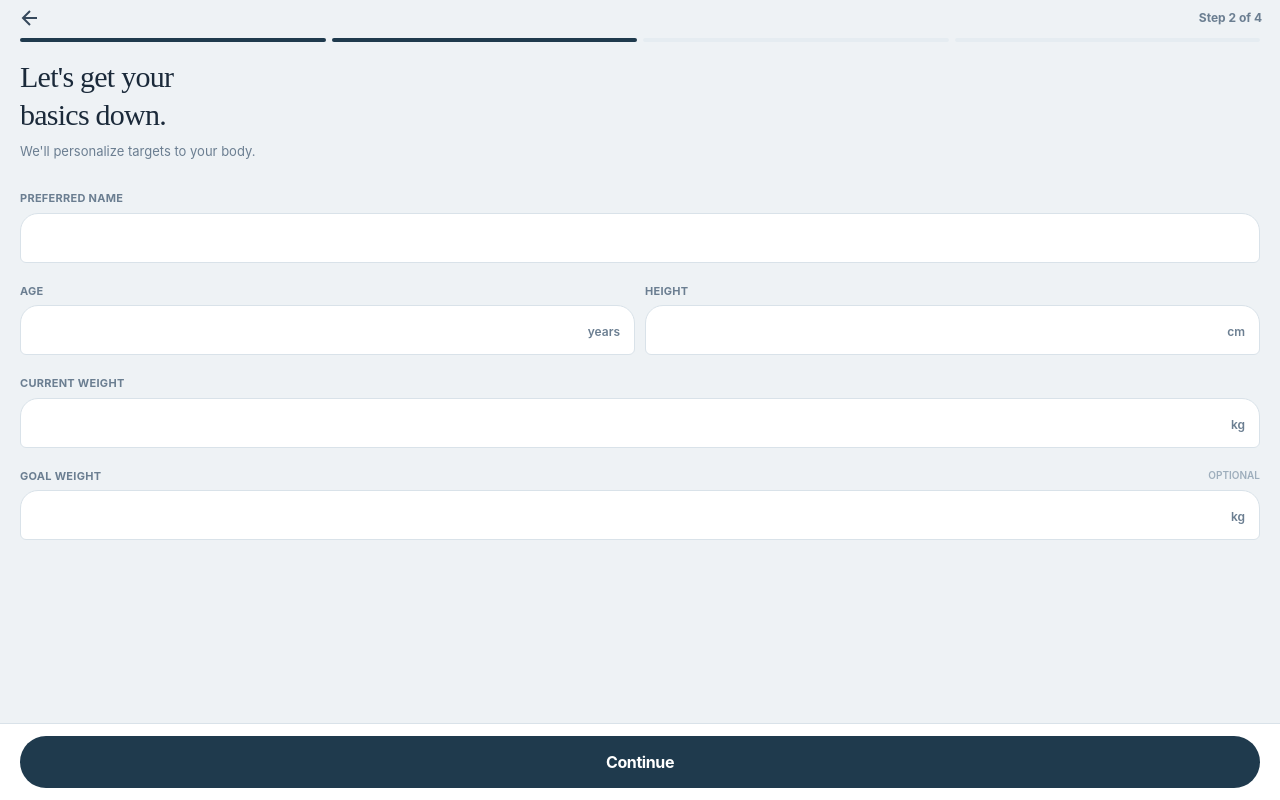
it: OnboardingProfileScreen › shows validation error when display_name is empty on submit
Click the button "Continue" at (640, 762), box x1=20 y1=736 x2=1260 y2=788
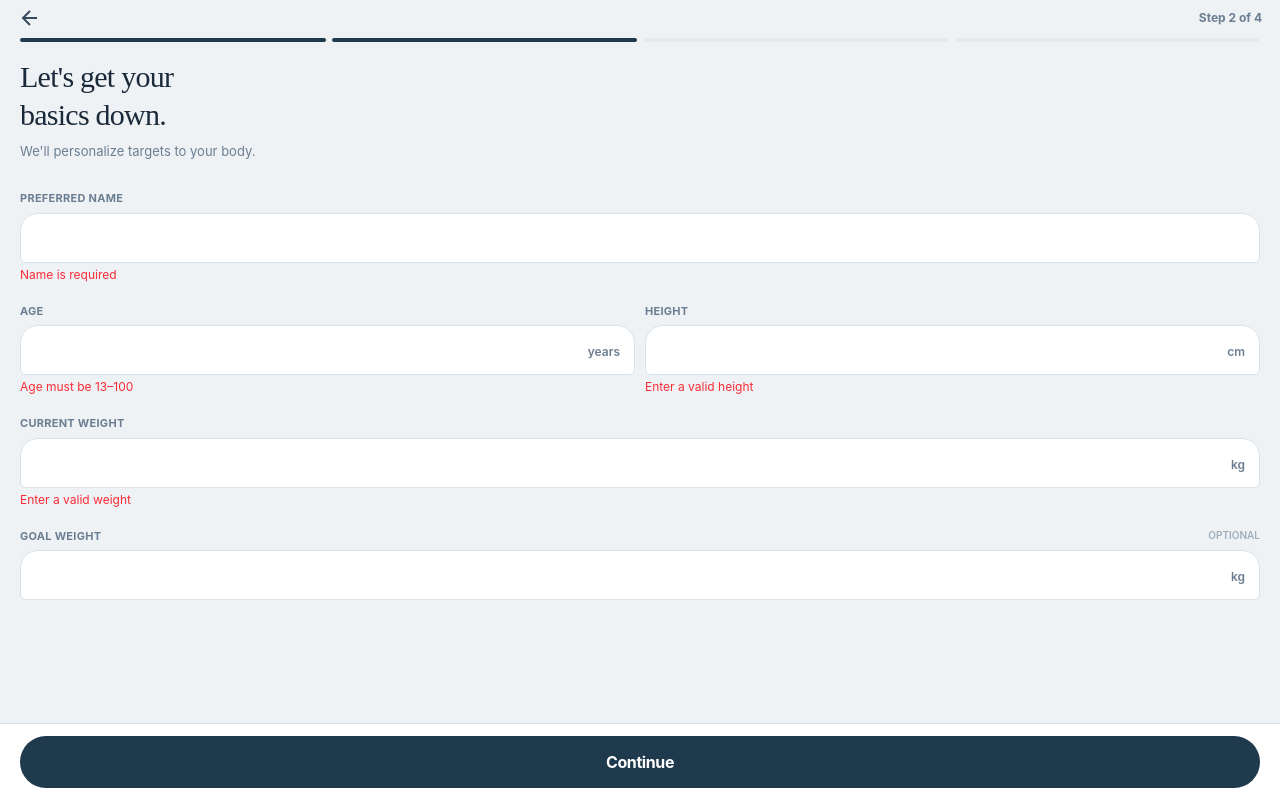
Result: the text "Name is required" is shown at x1=20 y1=267 x2=117 y2=282
